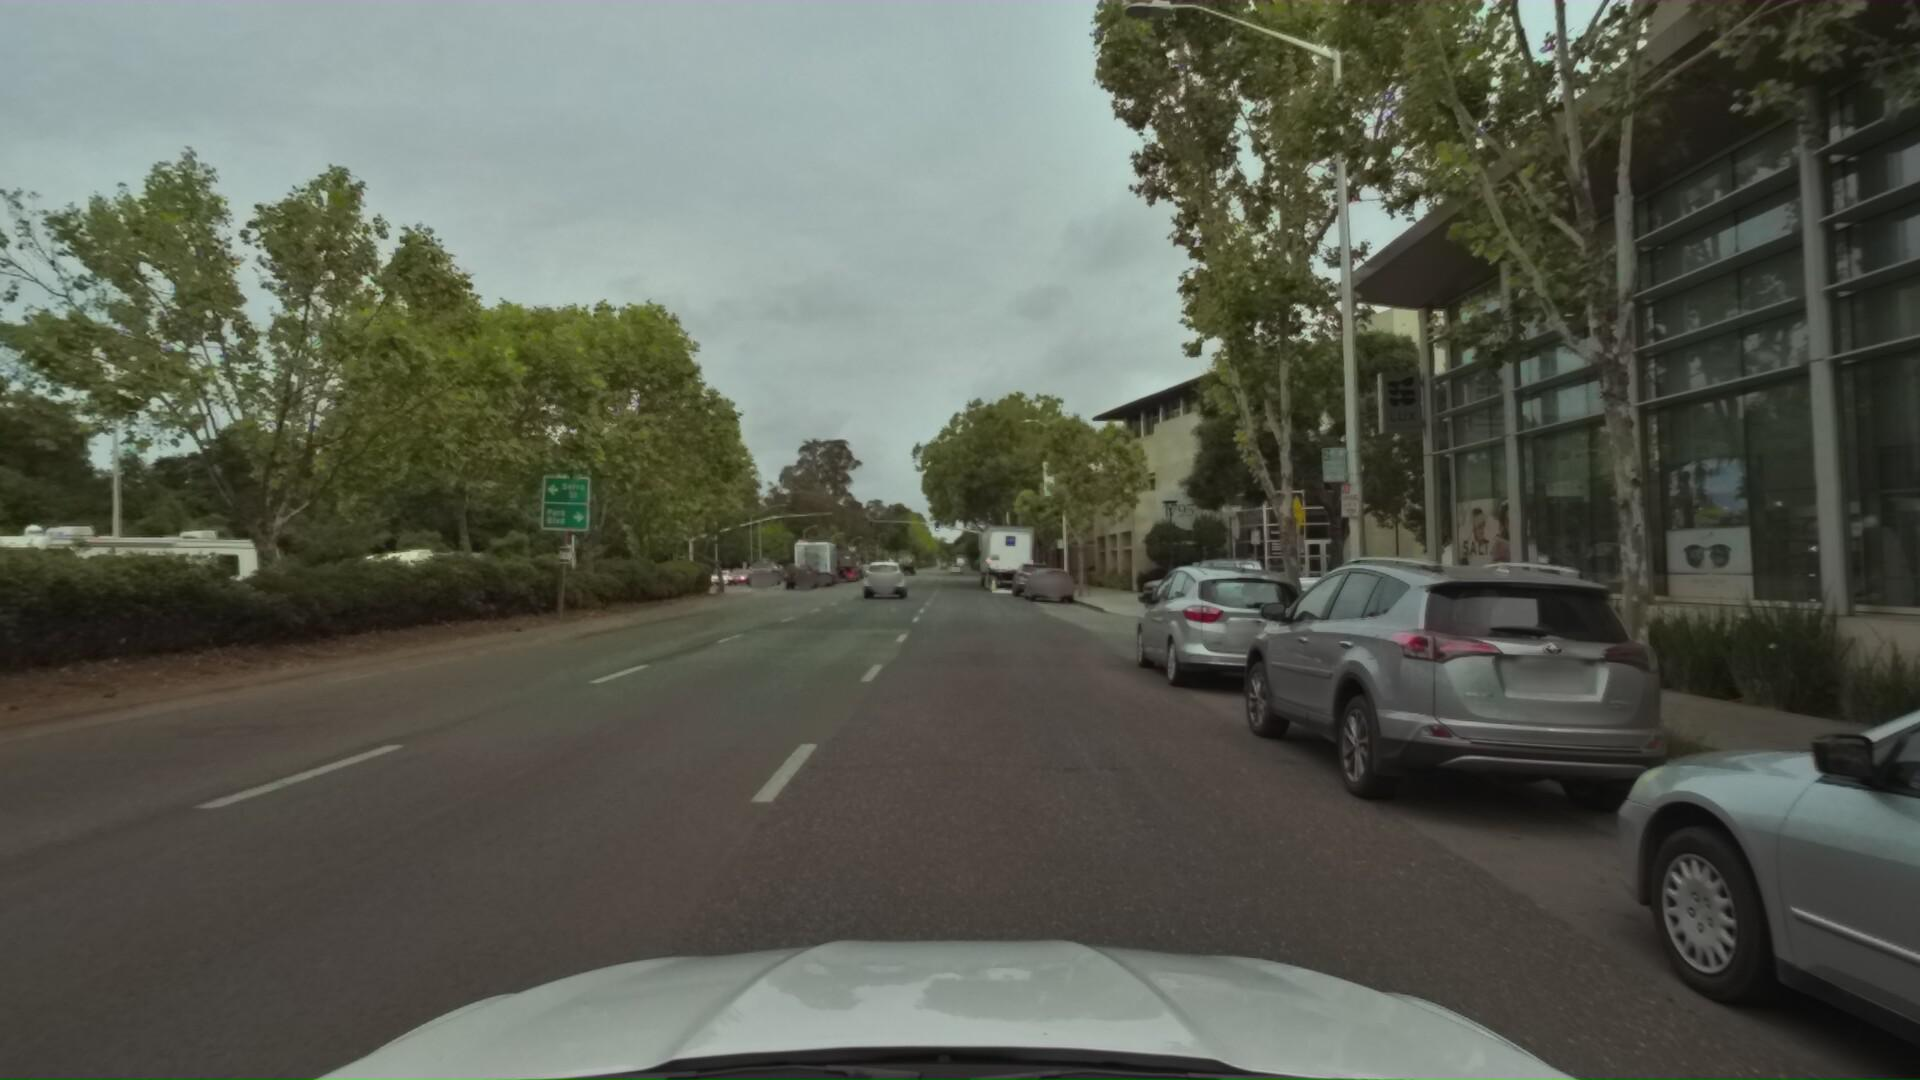car: (1229, 541, 1774, 876), (1124, 562, 1345, 713), (1130, 551, 1360, 622), (858, 556, 910, 599), (1022, 564, 1073, 603), (1010, 558, 1056, 597), (738, 556, 779, 587), (782, 559, 819, 588)
other_vehicle: (345, 545, 489, 616)
truck: (976, 501, 1036, 589), (790, 535, 839, 585)
